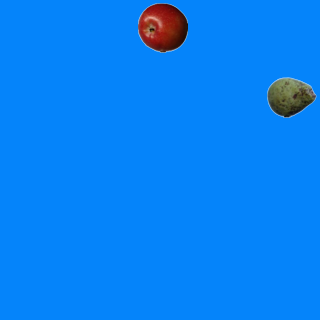Apple Braeburn: (137, 2, 187, 52)
Pear Stone: (266, 72, 316, 122)
